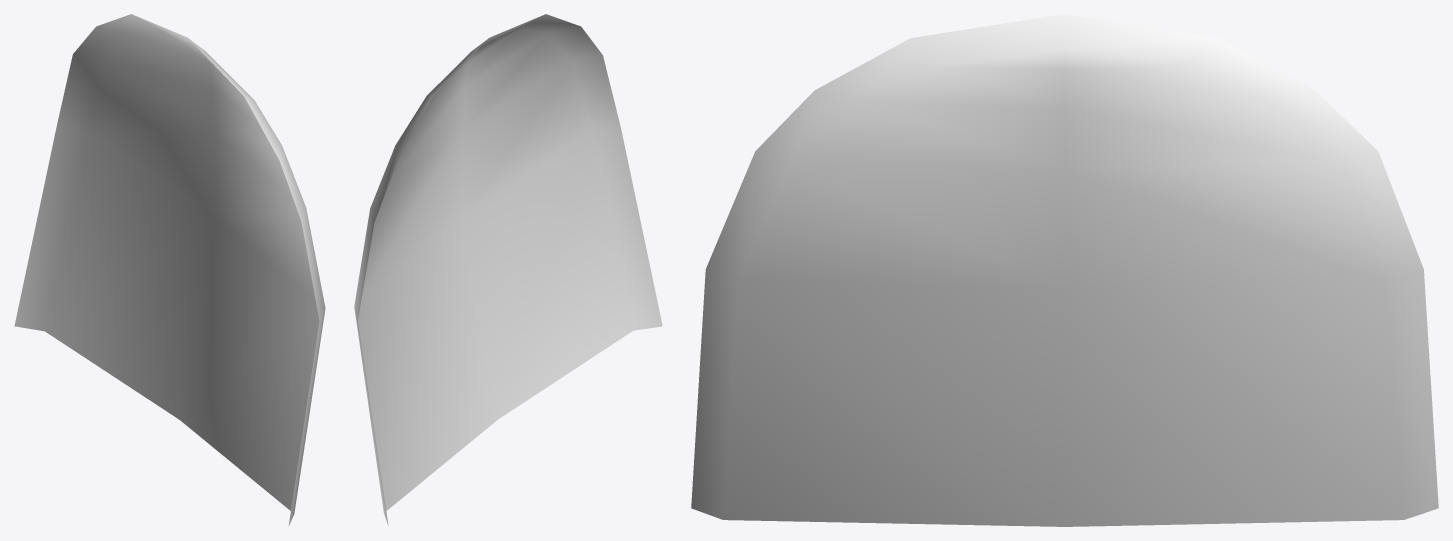
File: wg_r_lr_slv2.glb
The picture shows the model from 3 angles, left to right: view 1: azimuth 30°, elevation 25°; view 2: azimuth 150°, elevation 25°; view 3: azimuth 270°, elevation 25°; orthographic projection. The views are drawn at different scales.
Visible parts, largest first — view 1: wg_r_lr_slv2; view 2: wg_r_lr_slv2; view 3: wg_r_lr_slv2.
Part boxes in pixels (x1,y1,x2,y2): wg_r_lr_slv2: (14, 14, 325, 525); wg_r_lr_slv2: (354, 14, 662, 525); wg_r_lr_slv2: (691, 14, 1438, 526).
Bounding box in the file's own units: 0.1101 × 0.6217 × 0.8124.
Materials: 1 (1 with a texture image).
